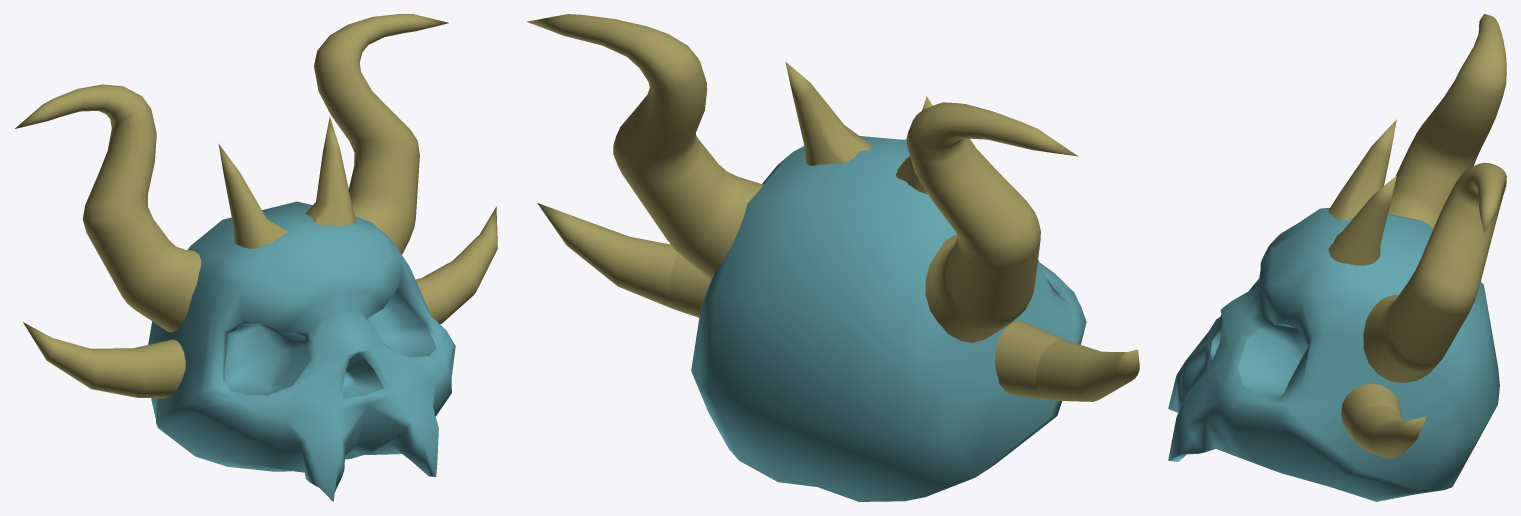
Rendered from SM_Ressource_P3_Wid.fbx.
3 views of the same model, side by side, from view 1: azimuth 30°, elevation 25°; view 2: azimuth 150°, elevation 25°; view 3: azimuth 270°, elevation 25° (orthographic). The views are drawn at different scales.
Visible parts, largest first — view 1: SM_ressource_P3; view 2: SM_ressource_P3; view 3: SM_ressource_P3.
Part boxes in pixels (left/top/right/bottom): SM_ressource_P3: left=15, top=14, right=497, bottom=501; SM_ressource_P3: left=526, top=14, right=1139, bottom=501; SM_ressource_P3: left=1168, top=14, right=1506, bottom=501.
Size of the model in its own units: 157 by 115 by 94.24.
